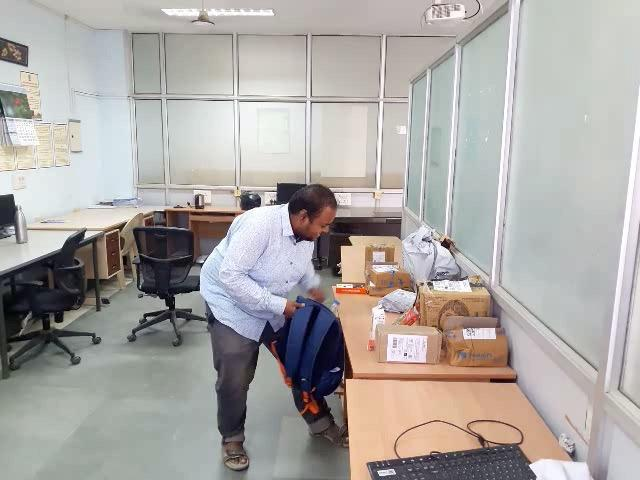shoplifting: (139, 254, 513, 450)
